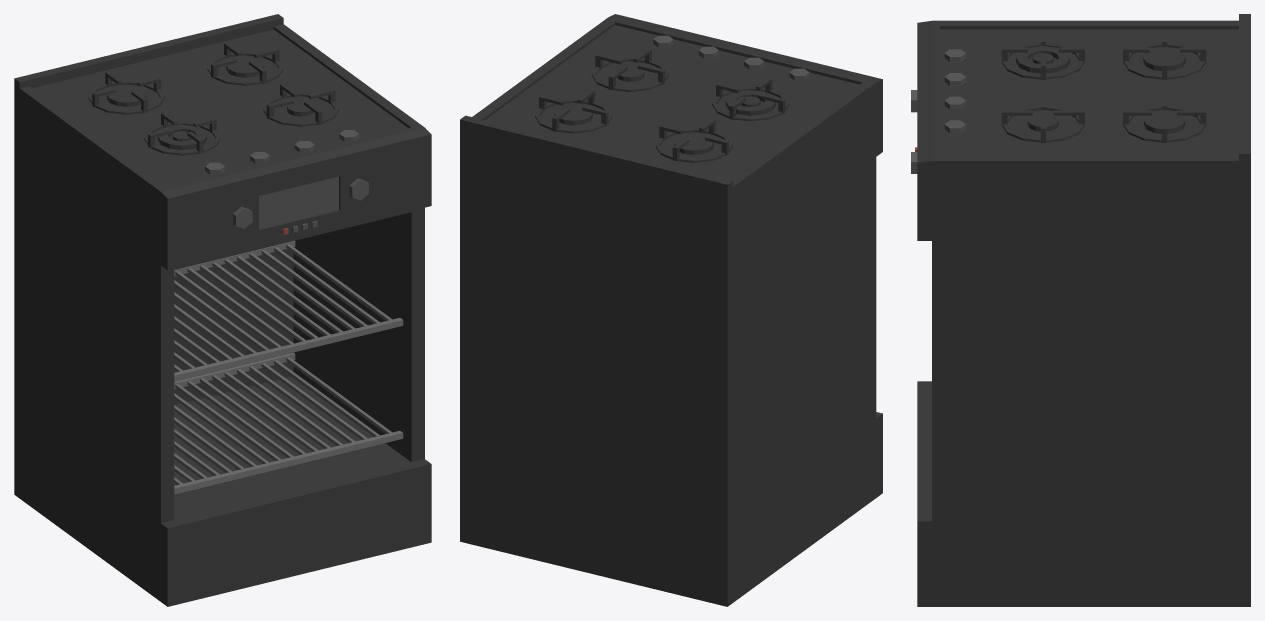
File: Oven3_01.fbx
3 views of the same model, side by side, from view 1: azimuth 30°, elevation 25°; view 2: azimuth 150°, elevation 25°; view 3: azimuth 270°, elevation 25° (orthographic). The views are drawn at different scales.
Visible parts, largest first — view 1: Oven3_01; view 2: Oven3_01; view 3: Oven3_01.
Boxes of the visible parts, <box> form: Oven3_01: <box>14,14,431,606</box>; Oven3_01: <box>460,14,882,606</box>; Oven3_01: <box>911,14,1250,606</box>.
Size of the model in its own units: 60 by 91.29 by 61.51.
